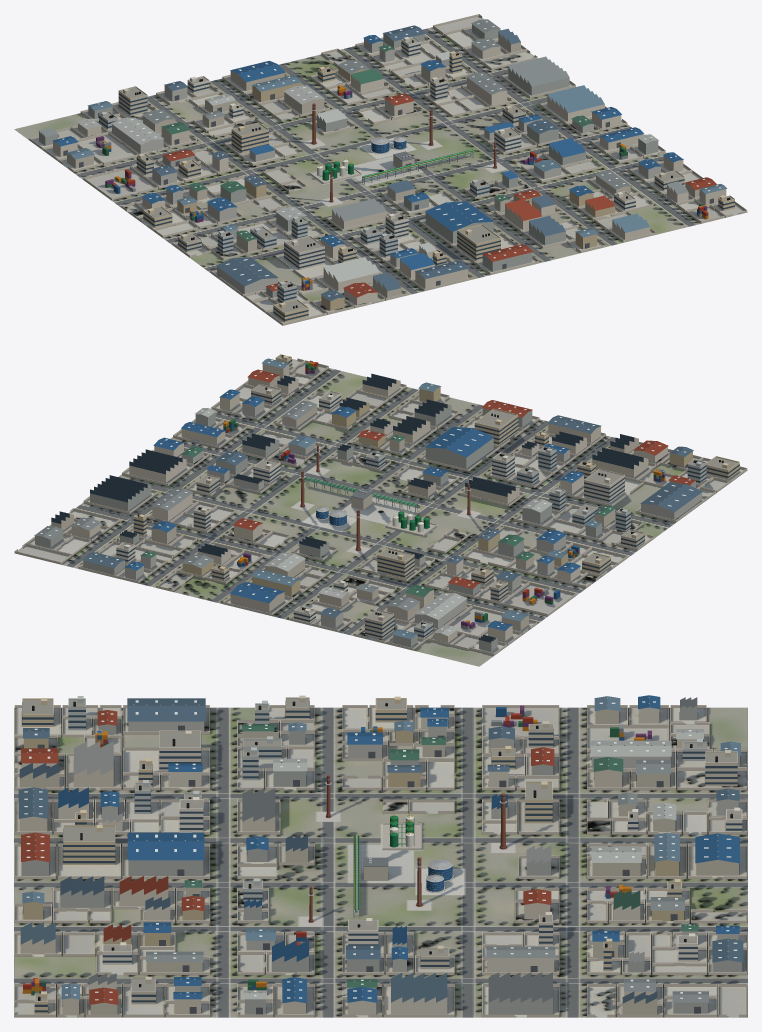
The model's file is estate.glb.
3 renders of one model, top to bottom at view 1: azimuth 30°, elevation 25°; view 2: azimuth 150°, elevation 25°; view 3: azimuth 270°, elevation 25°, orthographic. The views are drawn at different scales.
Parts seen in each view (by area): view 1: estate_ground, estate_walls, estate_roofs, estate_concrete, estate_glass, estate_metal, estate_frp; view 2: estate_ground, estate_walls, estate_concrete, estate_roofs, estate_glass, estate_metal, estate_frp; view 3: estate_ground, estate_walls, estate_roofs, estate_concrete, estate_glass, estate_metal, estate_frp, estate_brick.
Boxes of the visible parts, x1=… form: estate_ground: x1=14, y1=16, x2=747, y2=325; estate_walls: x1=39, y1=24, x2=734, y2=322; estate_roofs: x1=39, y1=19, x2=726, y2=301; estate_concrete: x1=29, y1=14, x2=747, y2=325; estate_glass: x1=62, y1=21, x2=734, y2=320; estate_metal: x1=60, y1=21, x2=718, y2=296; estate_frp: x1=317, y1=149, x2=474, y2=180; estate_ground: x1=14, y1=359, x2=747, y2=666; estate_walls: x1=35, y1=354, x2=739, y2=651; estate_concrete: x1=14, y1=355, x2=747, y2=655; estate_roofs: x1=34, y1=358, x2=702, y2=638; estate_glass: x1=40, y1=359, x2=739, y2=642; estate_metal: x1=45, y1=360, x2=688, y2=634; estate_frp: x1=305, y1=477, x2=429, y2=532; estate_ground: x1=14, y1=707, x2=747, y2=1017; estate_walls: x1=19, y1=695, x2=742, y2=1015; estate_roofs: x1=18, y1=695, x2=743, y2=1004; estate_concrete: x1=14, y1=699, x2=747, y2=1017; estate_glass: x1=22, y1=700, x2=742, y2=1014; estate_metal: x1=23, y1=697, x2=734, y2=999; estate_frp: x1=354, y1=815, x2=413, y2=912; estate_brick: x1=308, y1=775, x2=506, y2=922.
Bounding box in the file's own units: 420 × 33.99 × 420.
9 materials, 1 textured.
